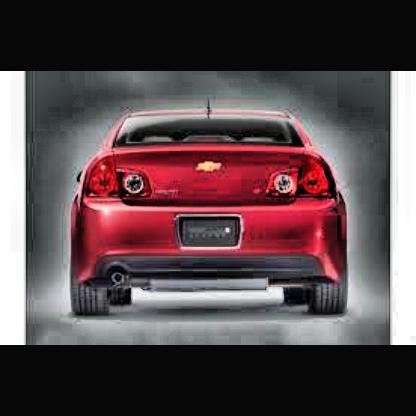Chevrolet Malibu Hybrid Sedan 2010: (68, 96, 355, 322)
